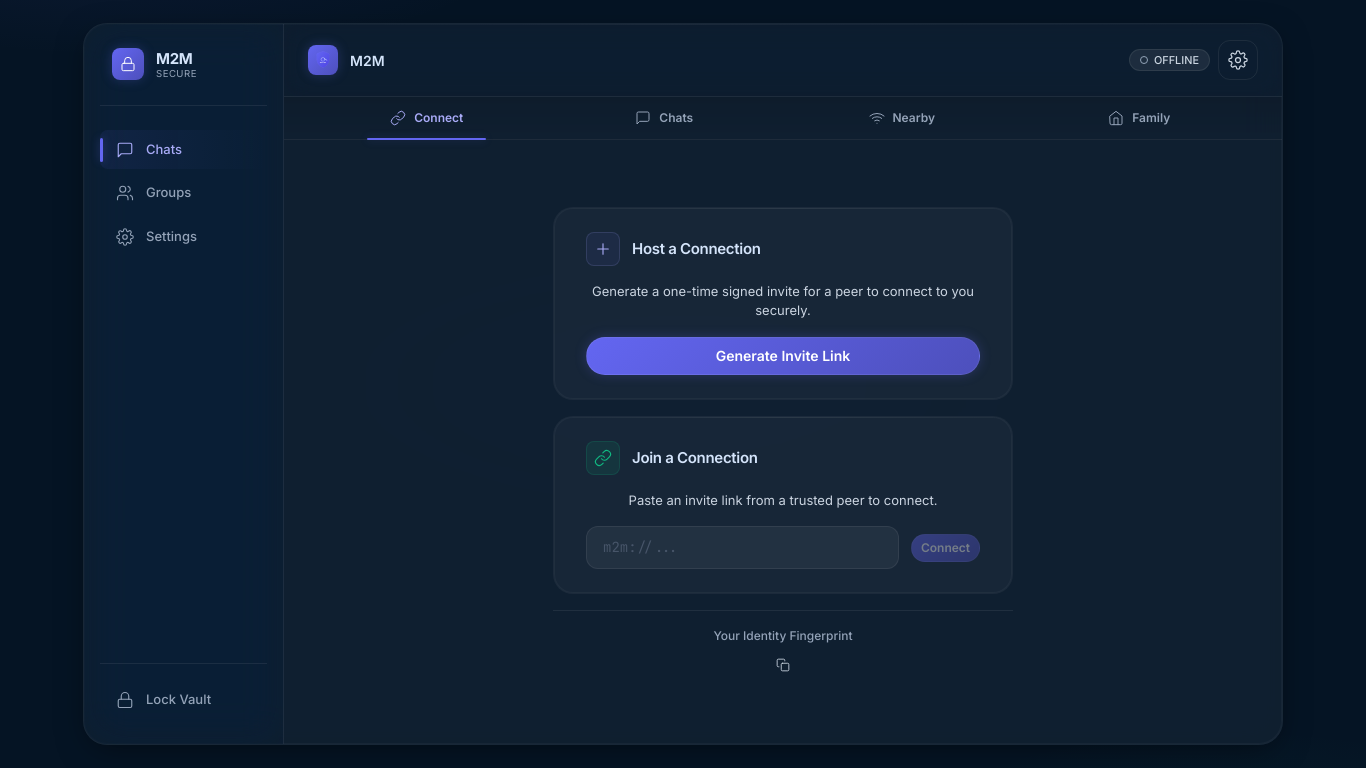
Test: HubView › shows empty state when no conversations
This screenshot has width=1366, height=768.
Click the tab "Chats": coordinates (664, 118) [546,97,783,139]
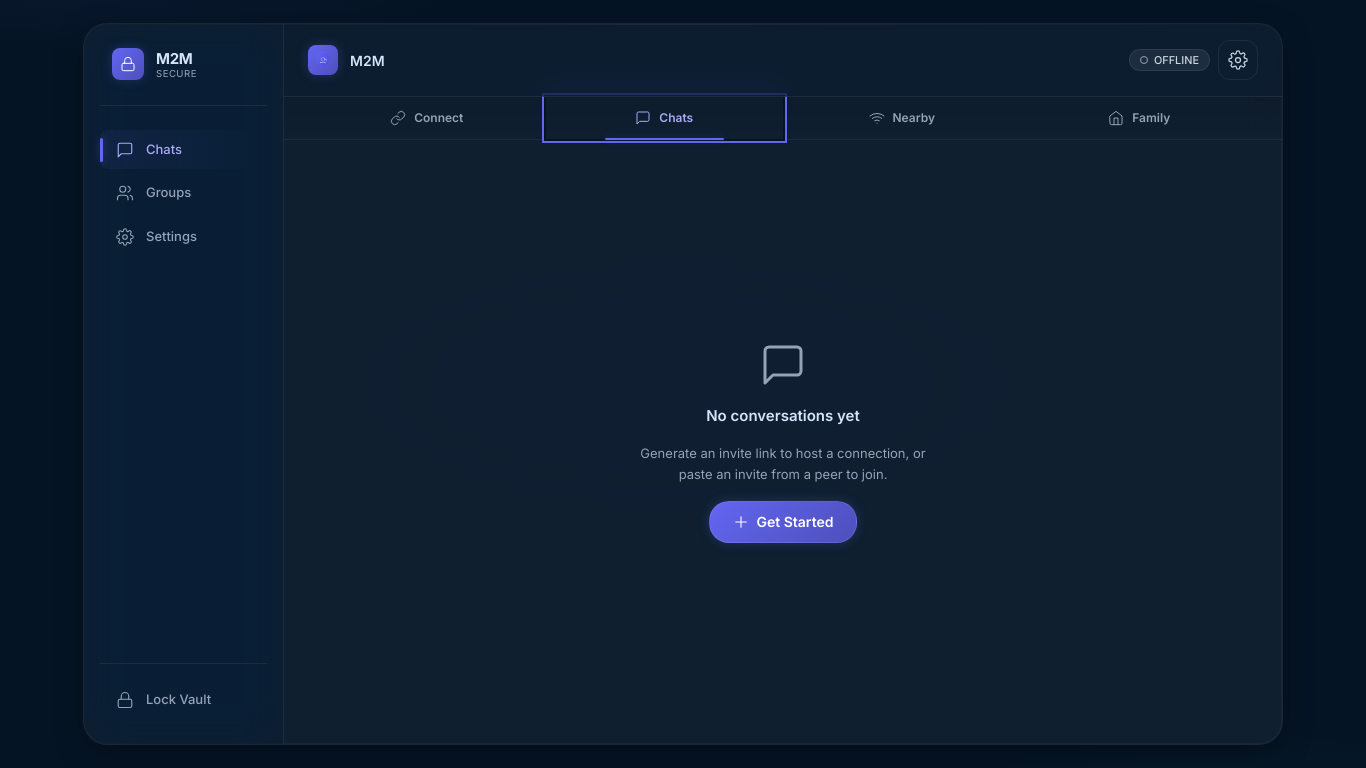
Check: the text "No conversations yet" is shown, box [706,405,860,428]
